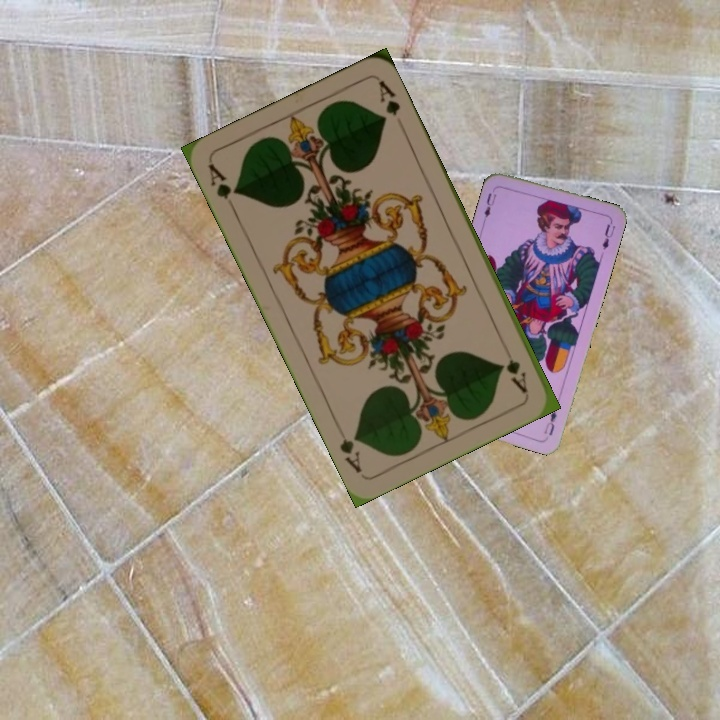EU: (480, 189, 499, 220), (540, 407, 559, 438)
GA: (204, 160, 241, 215), (497, 340, 530, 396)
